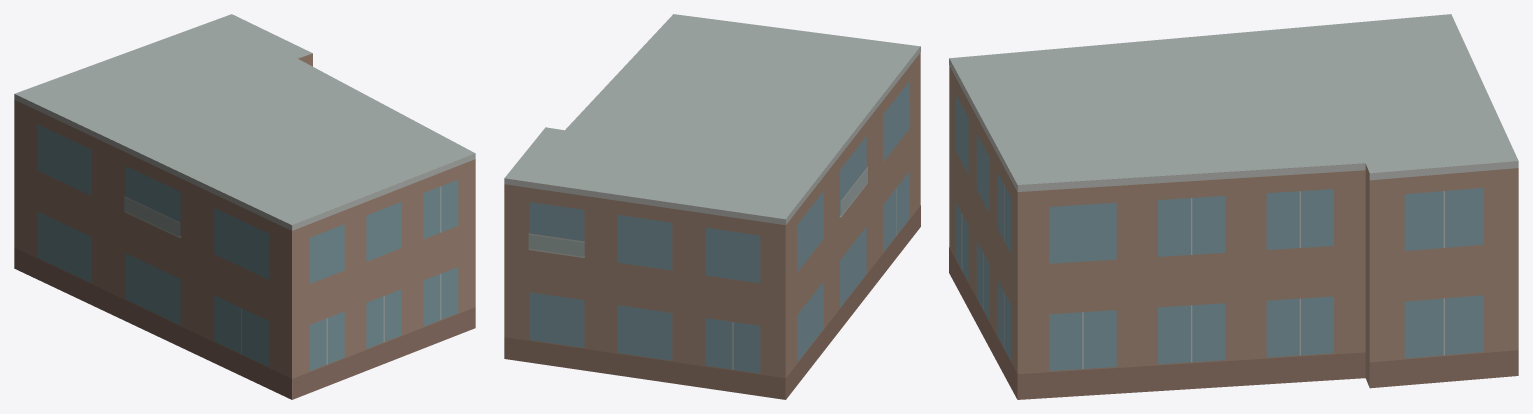
The model's file is survey-upis-32631902.glb.
3 renders of one model, left to right at view 1: azimuth 30°, elevation 25°; view 2: azimuth 150°, elevation 25°; view 3: azimuth 270°, elevation 25°, orthographic. The views are drawn at different scales.
Visible parts, largest first — view 1: survey-upis-32631902.tmp; view 2: survey-upis-32631902.tmp; view 3: survey-upis-32631902.tmp.
Part boxes in pixels (box(x1,y1,x2,y2)): survey-upis-32631902.tmp: box(14, 14, 475, 399); survey-upis-32631902.tmp: box(504, 14, 920, 399); survey-upis-32631902.tmp: box(949, 14, 1518, 399).
Bounding box in the file's own units: 12.82 × 7.5 × 18.03.
